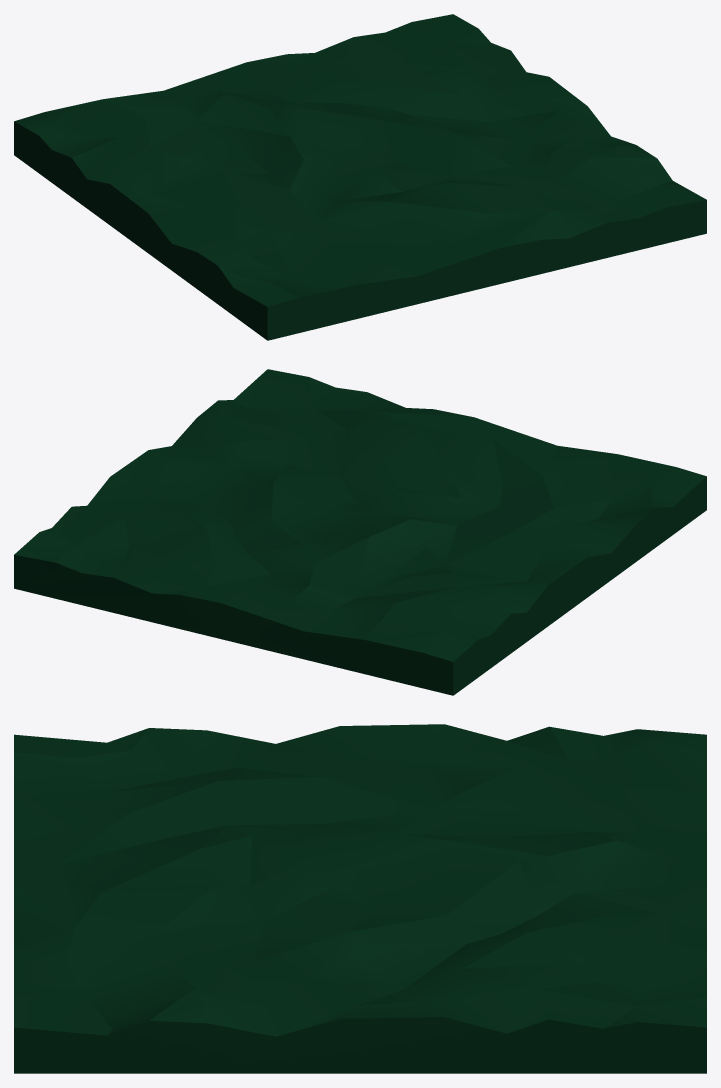
Rendered from Grass_Base.fbx.
3 renders of one model, top to bottom at view 1: azimuth 30°, elevation 25°; view 2: azimuth 150°, elevation 25°; view 3: azimuth 270°, elevation 25°, orthographic. The views are drawn at different scales.
Visible parts, largest first — view 1: Grass_Base; view 2: Grass_Base; view 3: Grass_Base.
Part boxes in pixels (x1,y1,x2,y2): Grass_Base: [14, 14, 706, 340]; Grass_Base: [14, 369, 706, 695]; Grass_Base: [14, 724, 706, 1073].
Size of the model in its own units: 147 by 14.69 by 147.
